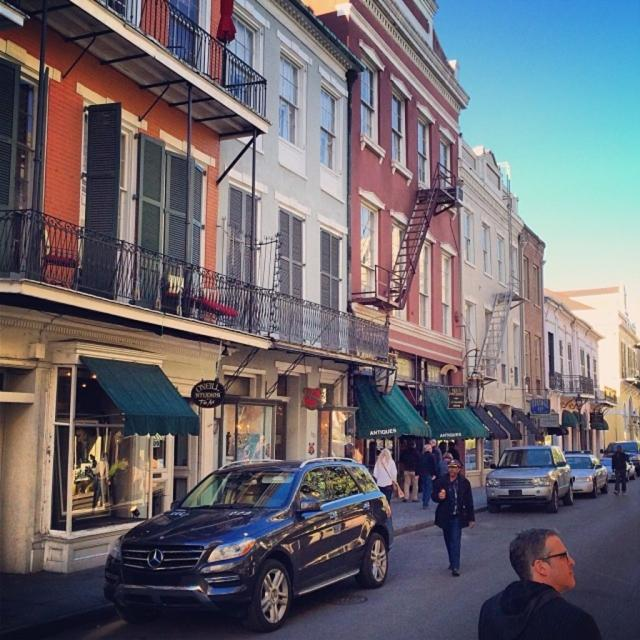car: (99, 456, 395, 628), (484, 444, 570, 515)
